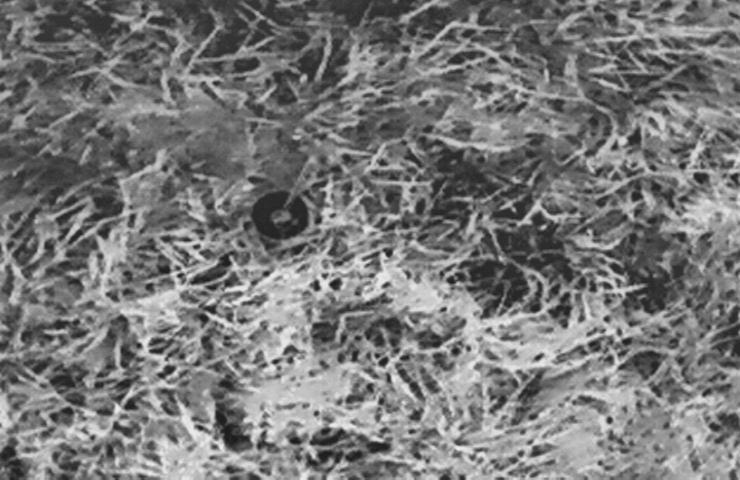landmines: (243, 183, 322, 255)
